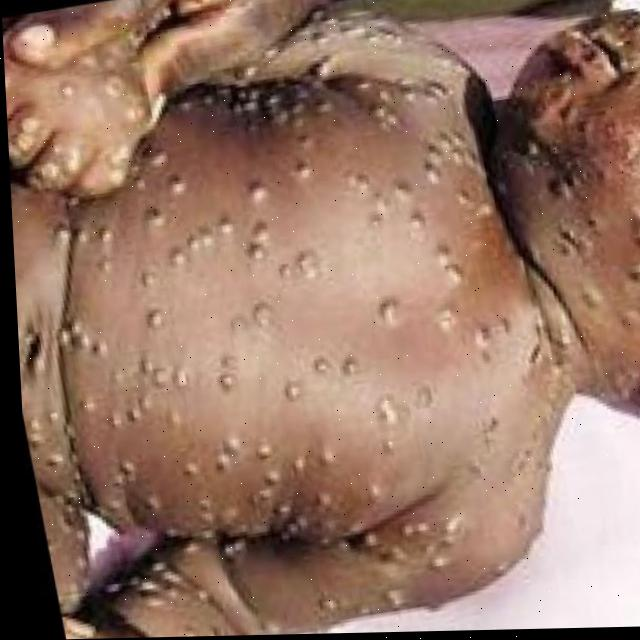Eczema: (39, 14, 492, 616), (507, 84, 640, 307)
